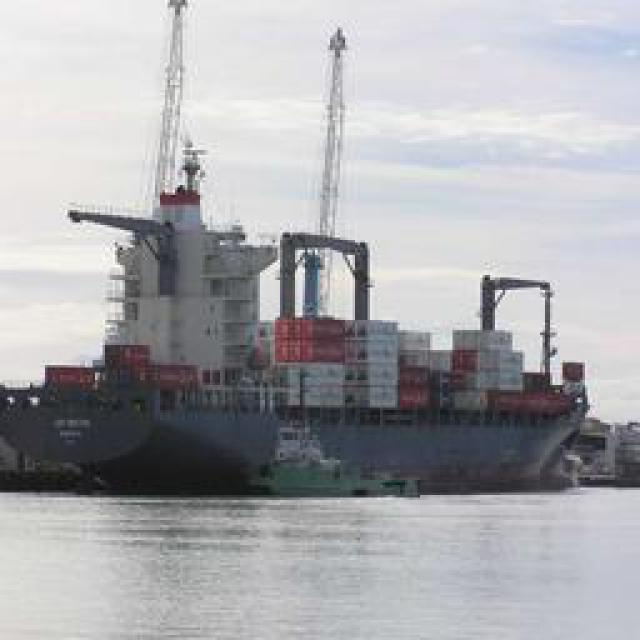Ship: (90, 201, 593, 491)
